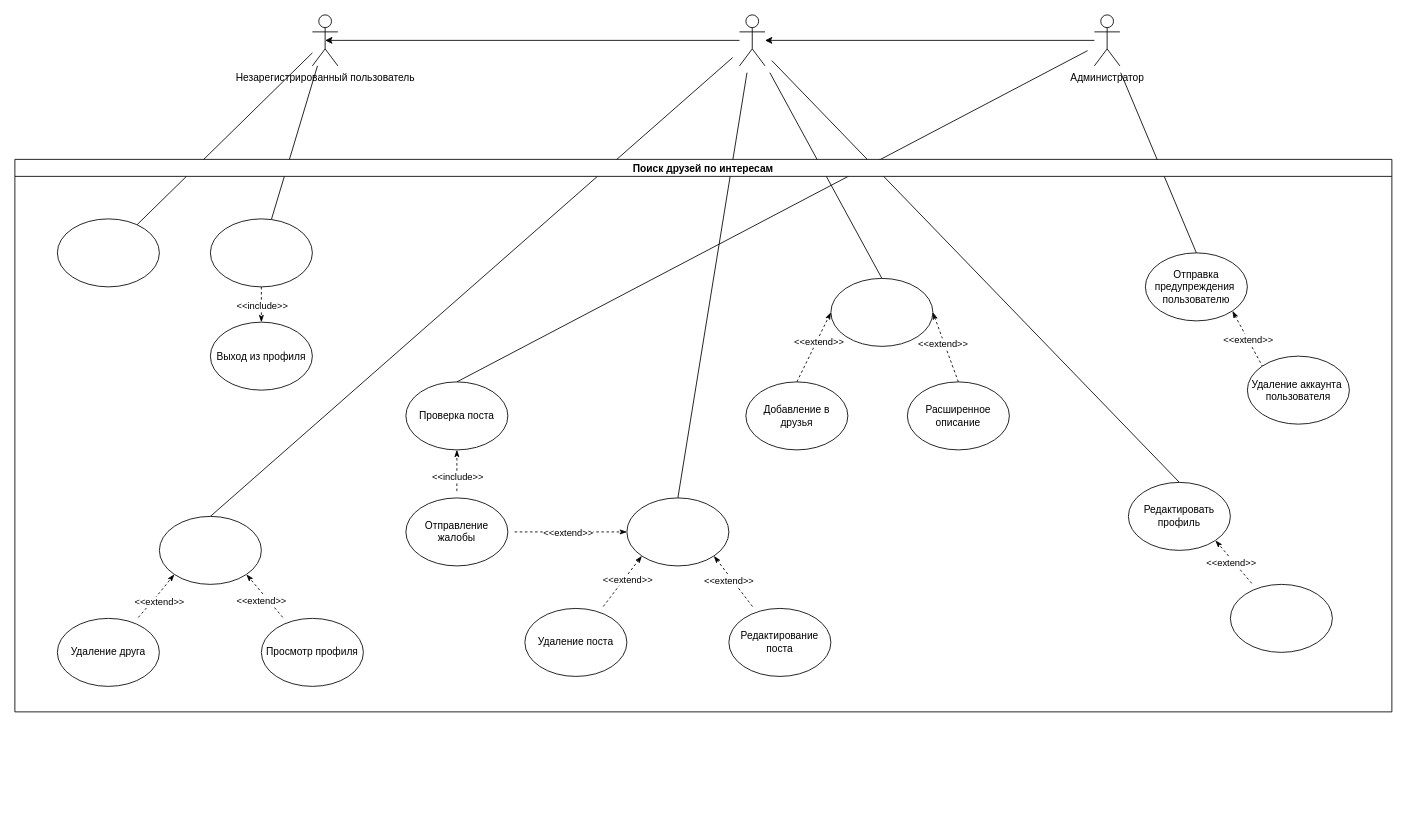
Some shapes in this 1424 by 836 pixel diagram are drawn without their labels. The centre of each missing label's shape, as x and y in pixels:
Вход в систему: point (261, 252)
Зарегистрироваться в системе: point (108, 252)
Поиск пользователей: point (881, 312)
Пользователь: point (752, 40)
Посмотреть список друзей: point (210, 550)
Создание поста: point (677, 531)
Удалить профиль: point (1281, 618)
